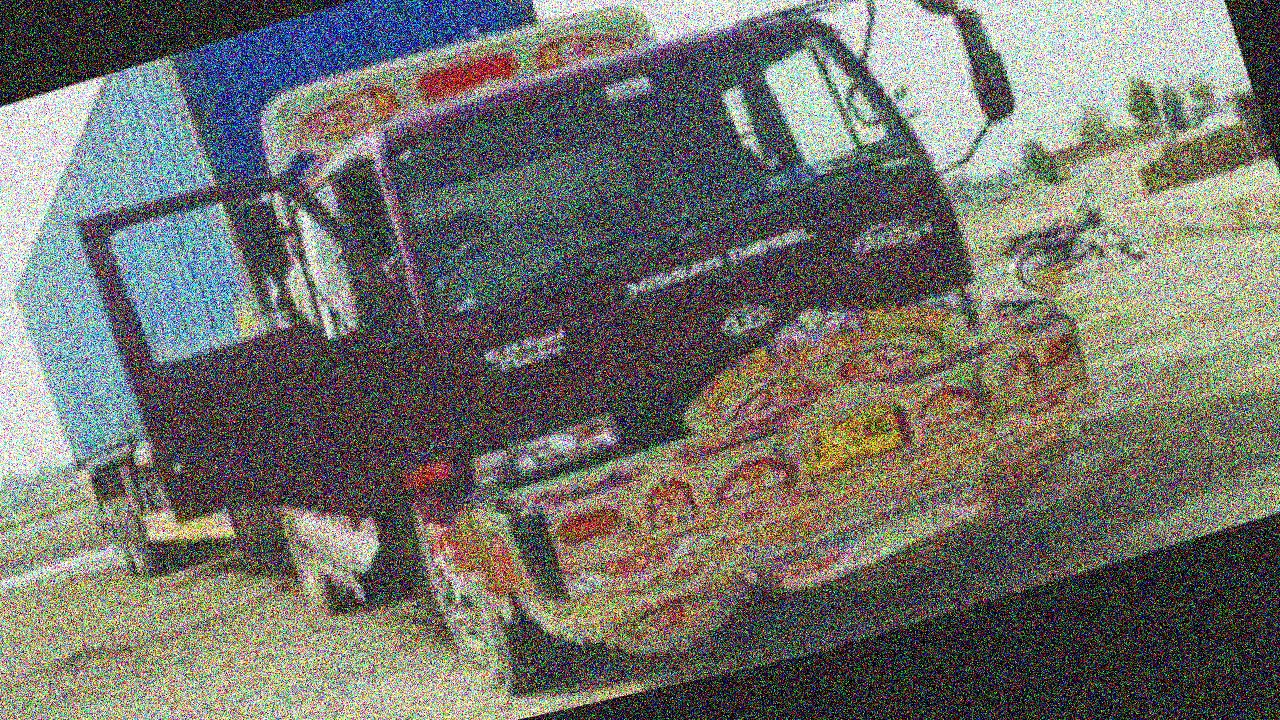truck: (0, 0, 1165, 720)
